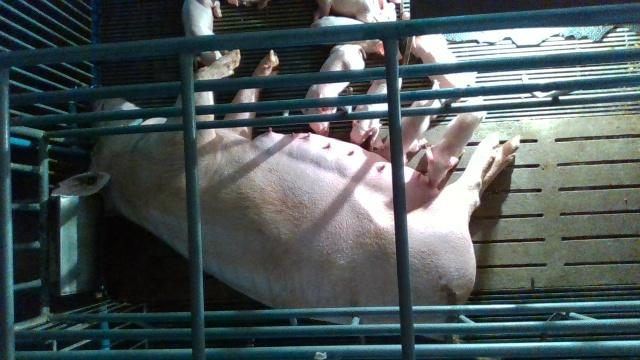piglet: (303, 44, 364, 137), (425, 97, 487, 188), (383, 79, 443, 166), (411, 34, 477, 90), (351, 77, 402, 144), (182, 0, 223, 71), (312, 0, 396, 23)
sow-sleep-lactate: (50, 48, 520, 324)
